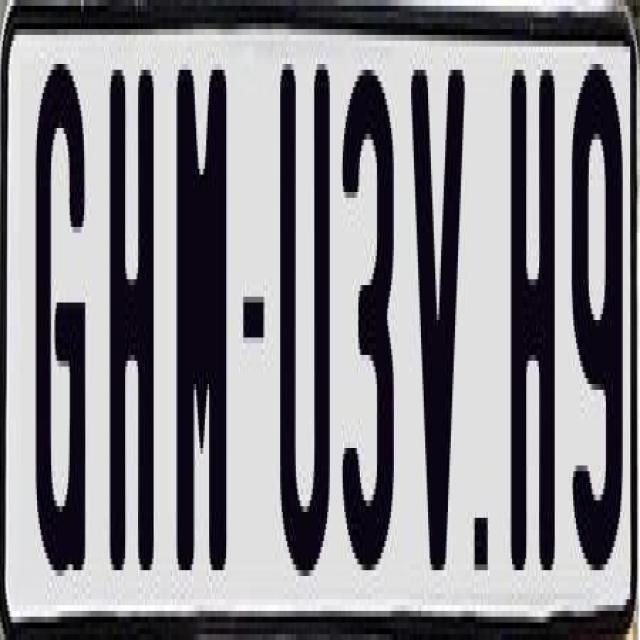3: (340, 58, 397, 588)
9: (568, 64, 618, 582)
G: (32, 52, 88, 588)
H: (106, 52, 160, 582), (509, 58, 562, 564)
M: (175, 70, 228, 576)
U: (280, 52, 334, 570)
V: (410, 63, 470, 600)
